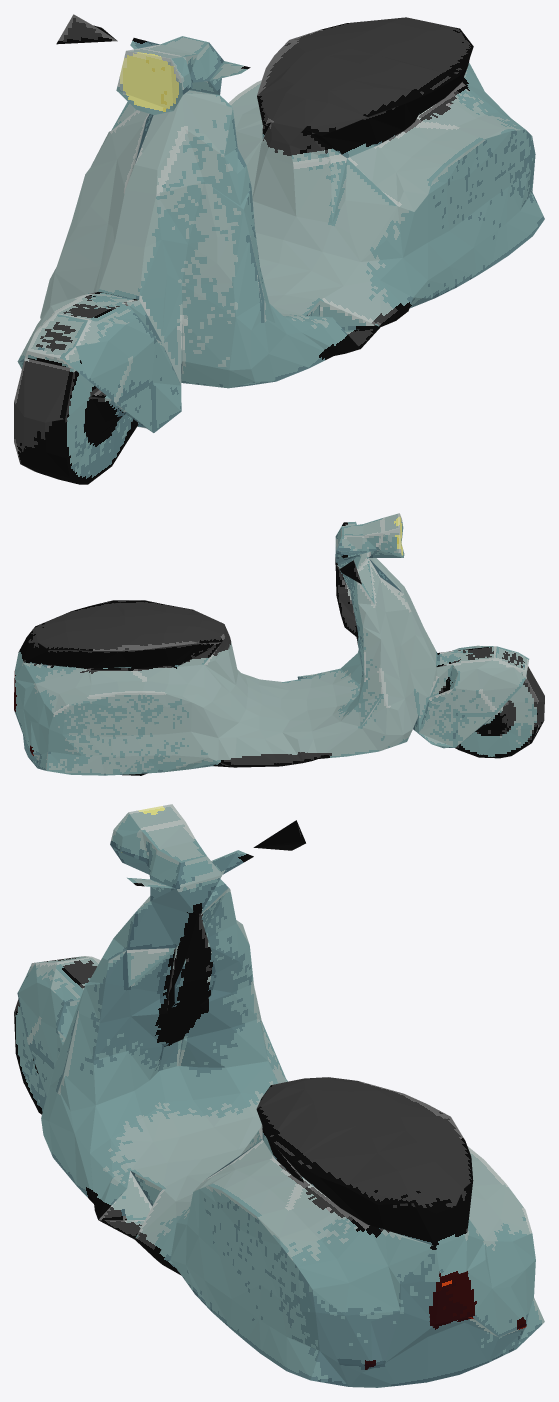
Rendered from scooter.glb.
3 views of the same model, one above another, from view 1: azimuth 30°, elevation 25°; view 2: azimuth 150°, elevation 25°; view 3: azimuth 270°, elevation 25° (orthographic). The views are drawn at different scales.
Visible parts, largest first — view 1: model_v; view 2: model_v; view 3: model_v.
Part boxes in pixels (x1,y1,x2,y2): model_v: [14, 14, 544, 484]; model_v: [14, 513, 544, 775]; model_v: [14, 804, 544, 1387].
Bounding box in the file's own units: 34.64 × 20.13 × 24.37.
Materials: 1 (1 with a texture image).
